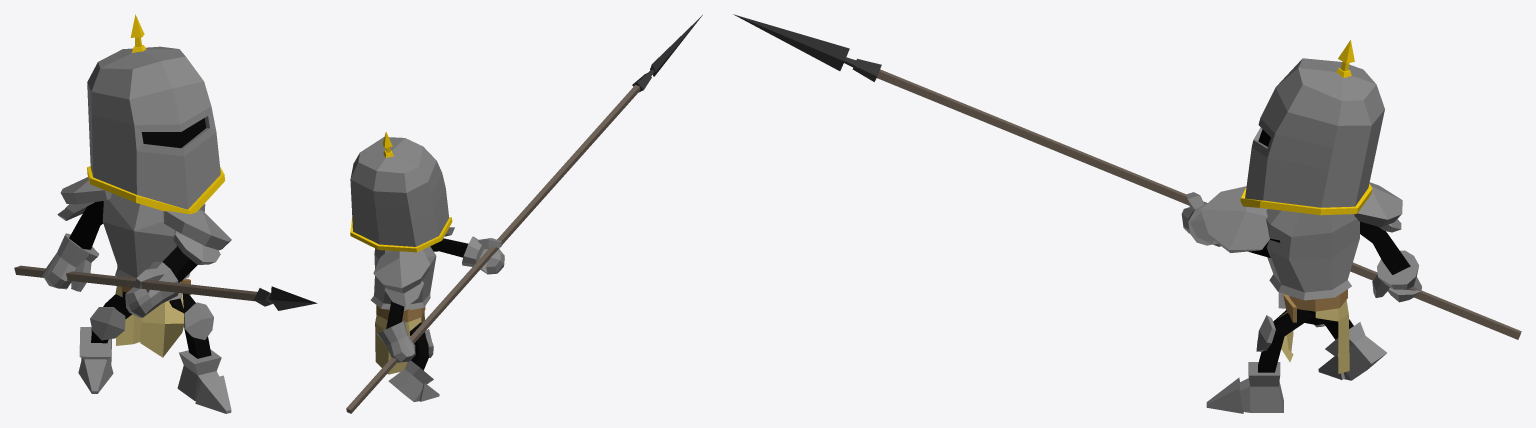
The picture shows the model from 3 angles, left to right: view 1: azimuth 30°, elevation 25°; view 2: azimuth 150°, elevation 25°; view 3: azimuth 270°, elevation 25°; orthographic projection. The views are drawn at different scales.
Visible parts, largest first — view 1: Soldier_2; view 2: Soldier_2; view 3: Soldier_2.
Part boxes in pixels (x1,y1,x2,y2): Soldier_2: (14,14,317,413); Soldier_2: (346,15,702,413); Soldier_2: (733,14,1521,413).
Size of the model in its own units: 0.9447 by 1.74 by 3.47.
9 materials, 1 textured.
